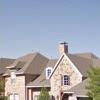Chimney: (54, 32, 70, 56)
